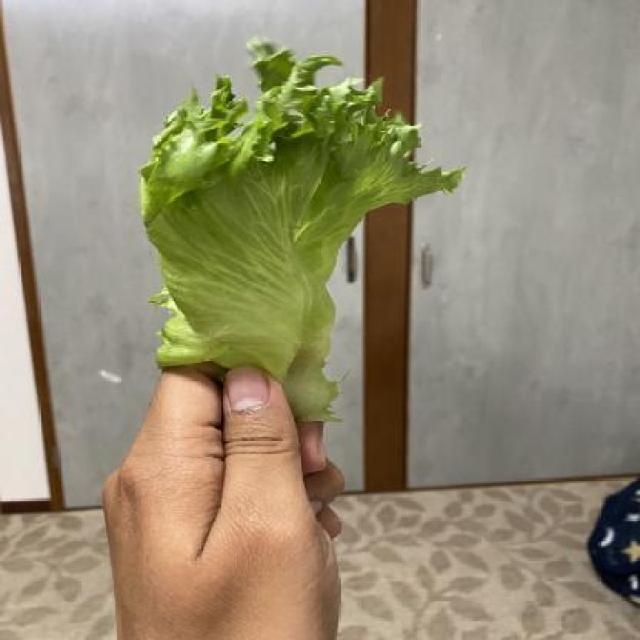Lettuce: (138, 38, 468, 424)
